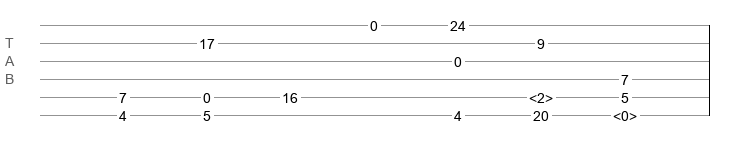0: (203, 90, 211, 100), (370, 18, 378, 28), (454, 54, 462, 64)
16: (282, 90, 298, 100)
17: (199, 36, 215, 46)
20: (533, 108, 549, 118)
24: (450, 18, 466, 28)
4: (119, 108, 127, 118), (454, 108, 462, 118)
5: (203, 108, 211, 118), (621, 90, 629, 100)
7: (119, 90, 127, 100), (621, 72, 629, 82)
9: (537, 36, 545, 46)
harmonic: (529, 90, 553, 100), (613, 108, 637, 118)
